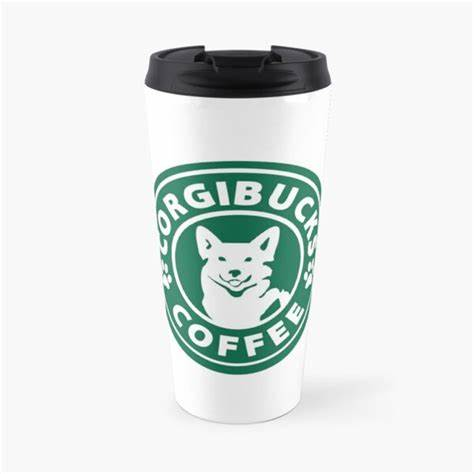starbucks Fake: (145, 154, 331, 382)
